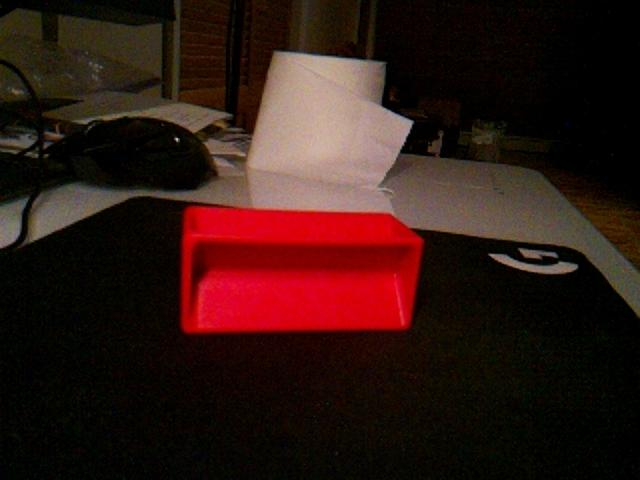red: (179, 203, 425, 336)
